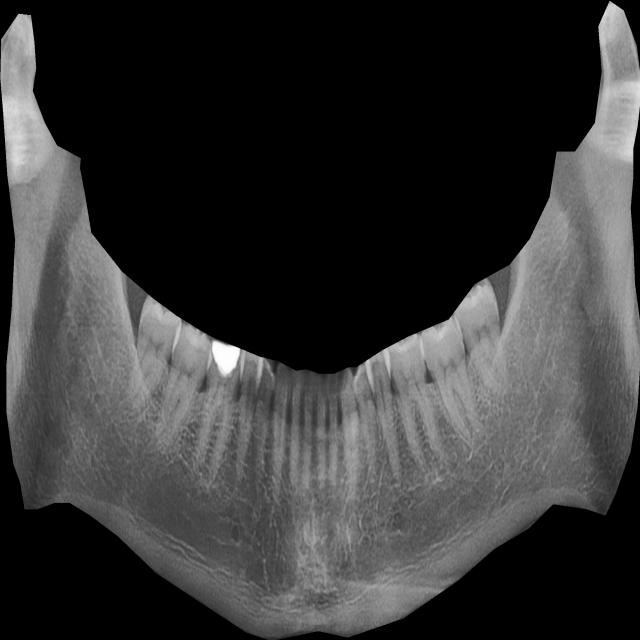mandibula: (0, 1, 640, 640)
